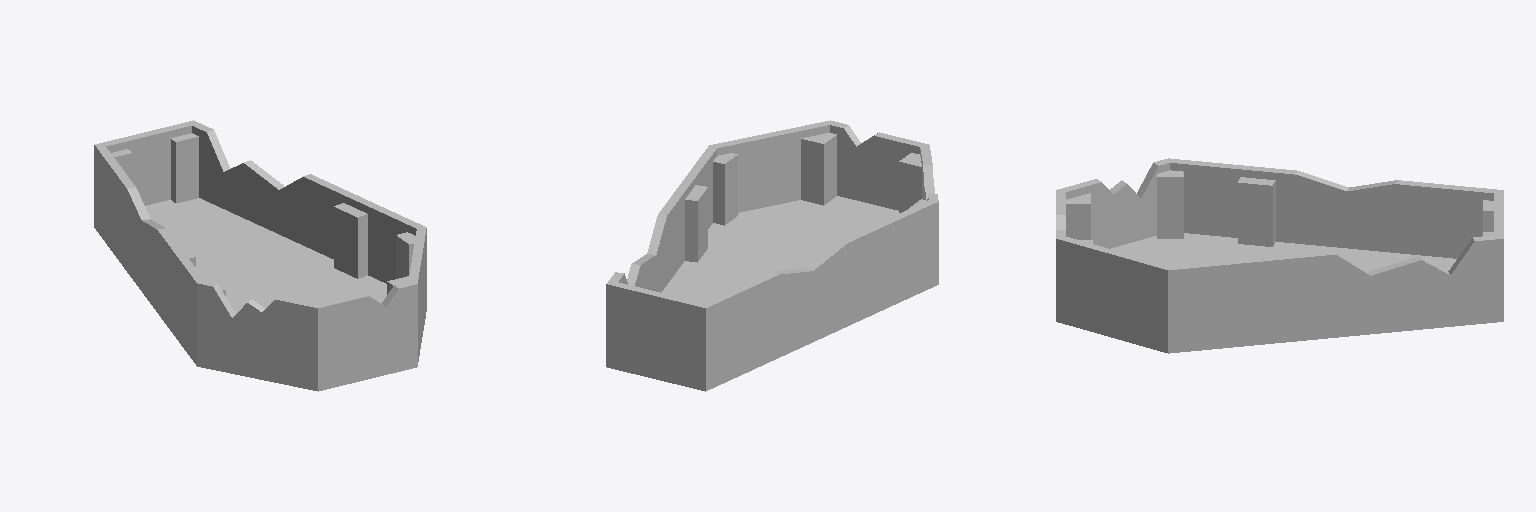
File: coffinOld.obj
The picture shows the model from 3 angles: view 1: azimuth 30°, elevation 25°; view 2: azimuth 150°, elevation 25°; view 3: azimuth 270°, elevation 25°; orthographic projection.
Visible parts, largest first — view 1: coffinOld; view 2: coffinOld; view 3: coffinOld.
Boxes of the visible parts, x1=… form: coffinOld: x1=94, y1=120, x2=426, y2=391; coffinOld: x1=606, y1=120, x2=938, y2=391; coffinOld: x1=1056, y1=158, x2=1503, y2=353.
Bounding box in the file's own units: 0.5928 × 0.2052 × 1.